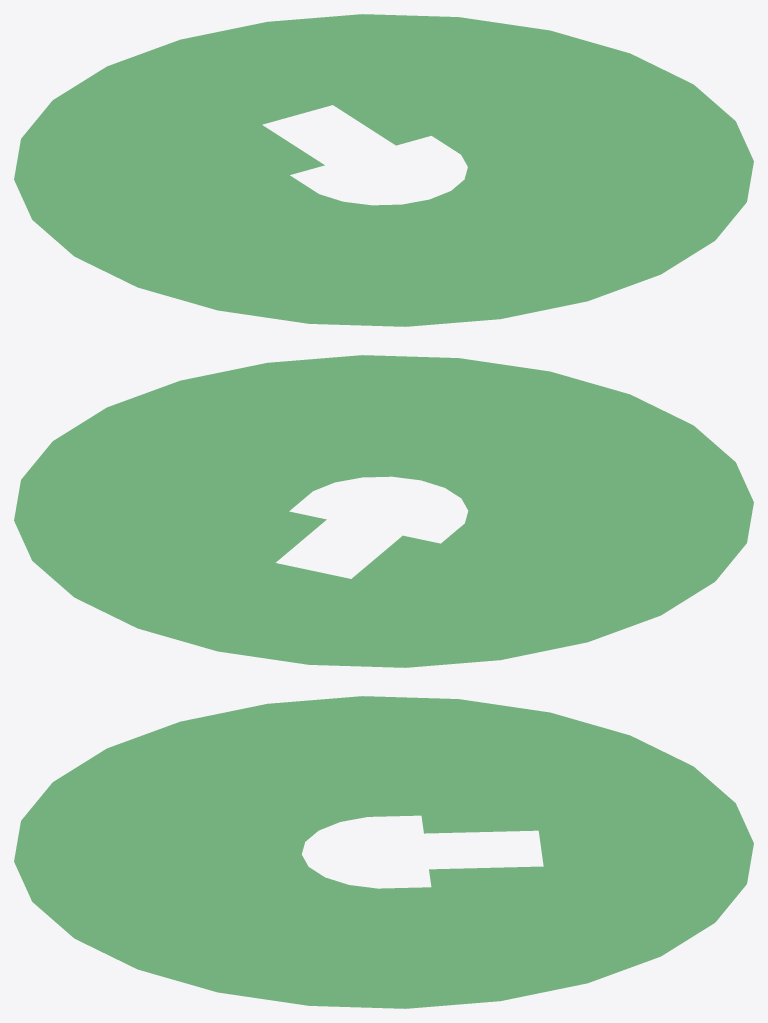
Rendered from cluster6.fbx.
The picture shows the model from 3 angles, top to bottom: view 1: azimuth 30°, elevation 25°; view 2: azimuth 150°, elevation 25°; view 3: azimuth 270°, elevation 25°; orthographic projection.
Parts seen in each view (by area): view 1: cluster6; view 2: cluster6; view 3: cluster6.
Part boxes in pixels (x1,y1,x2,y2): cluster6: [14, 14, 753, 326]; cluster6: [14, 355, 753, 667]; cluster6: [14, 696, 753, 1008].
Bounding box in the file's own units: 82455 × 0.0134 × 82455.
